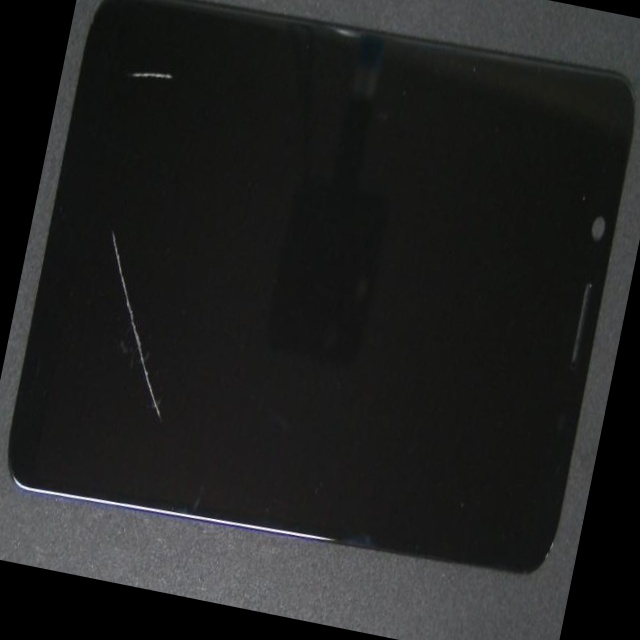scratch: (103, 285, 241, 585), (140, 5, 229, 143)
